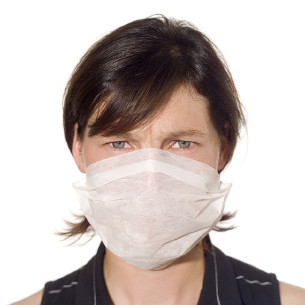face_mask: (81, 80, 216, 266)
